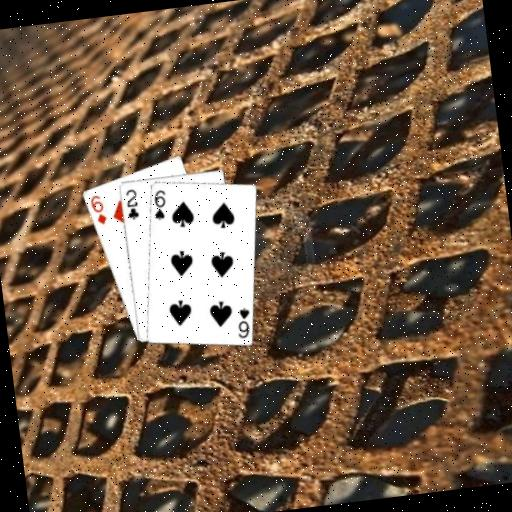2C: (122, 186, 141, 222)
6D: (86, 191, 109, 227)
6S: (231, 304, 254, 340), (148, 186, 170, 222)
